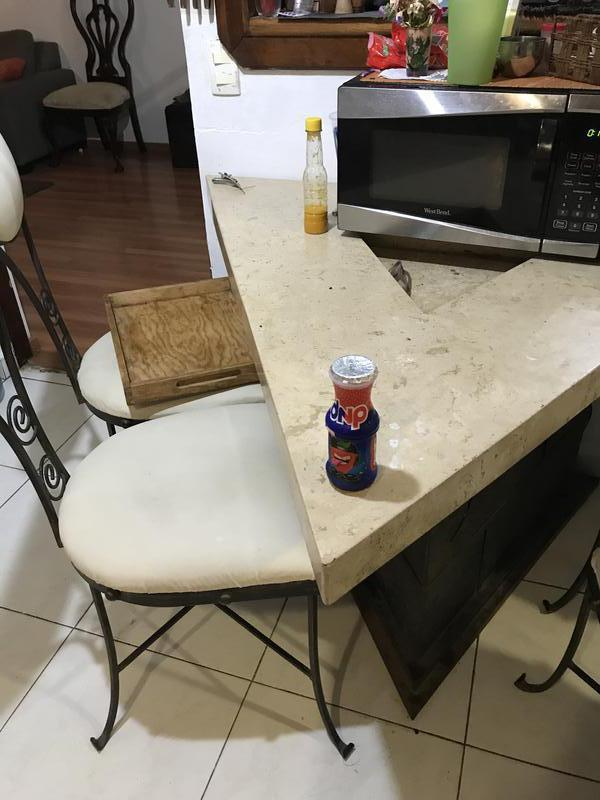danup: (324, 355, 385, 493)
